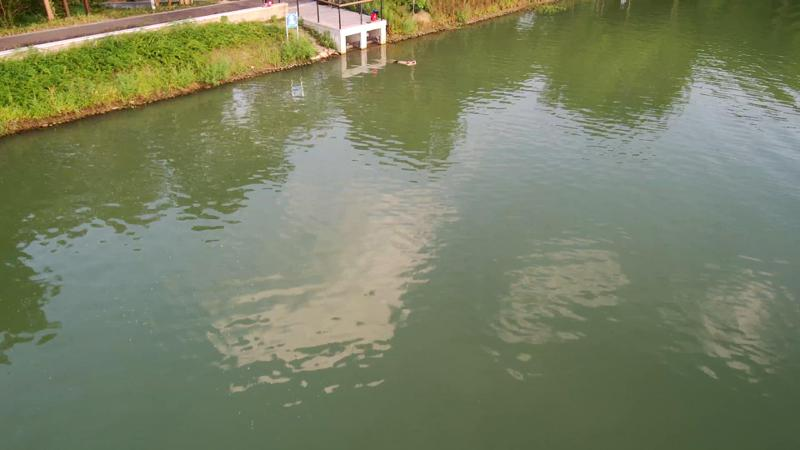swimmers: (388, 58, 417, 67)
